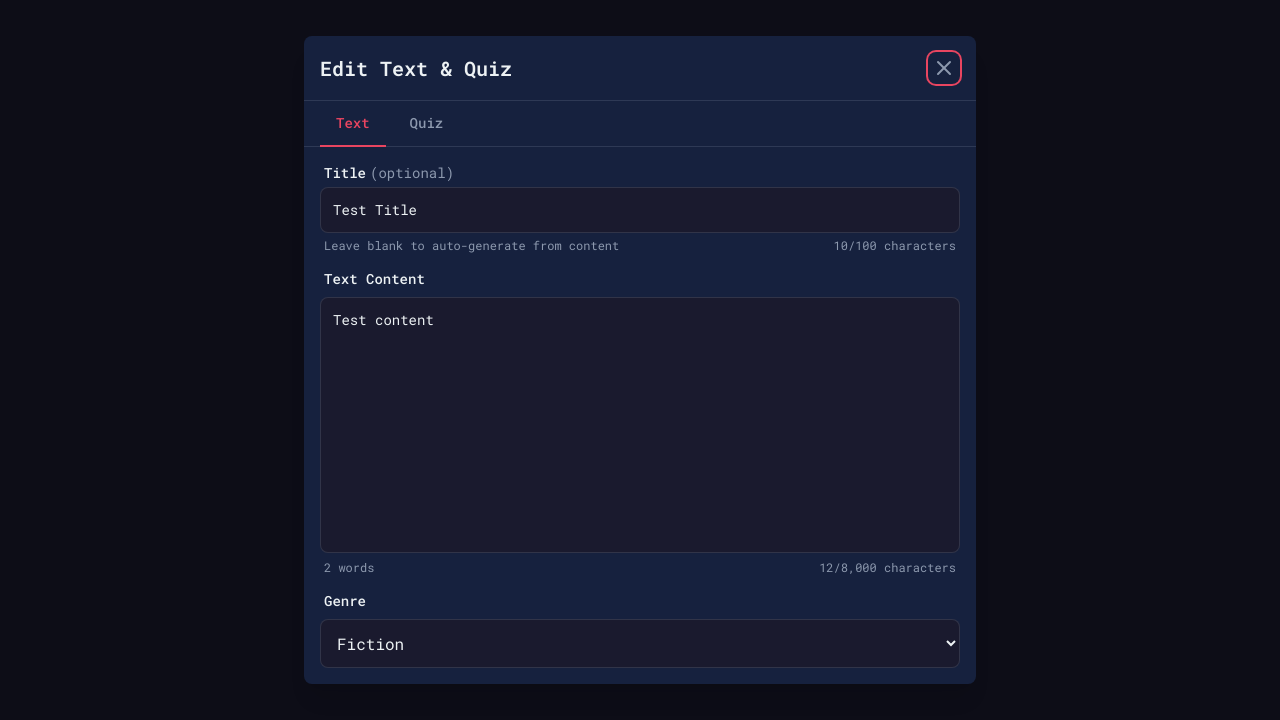
Test case: EditTextModal tabs › switches to Quiz tab when clicked
The width and height of the screenshot is (1280, 720).
Click the tab with test id "edit-modal-quiz-tab": (426, 124) [394, 101, 459, 147]
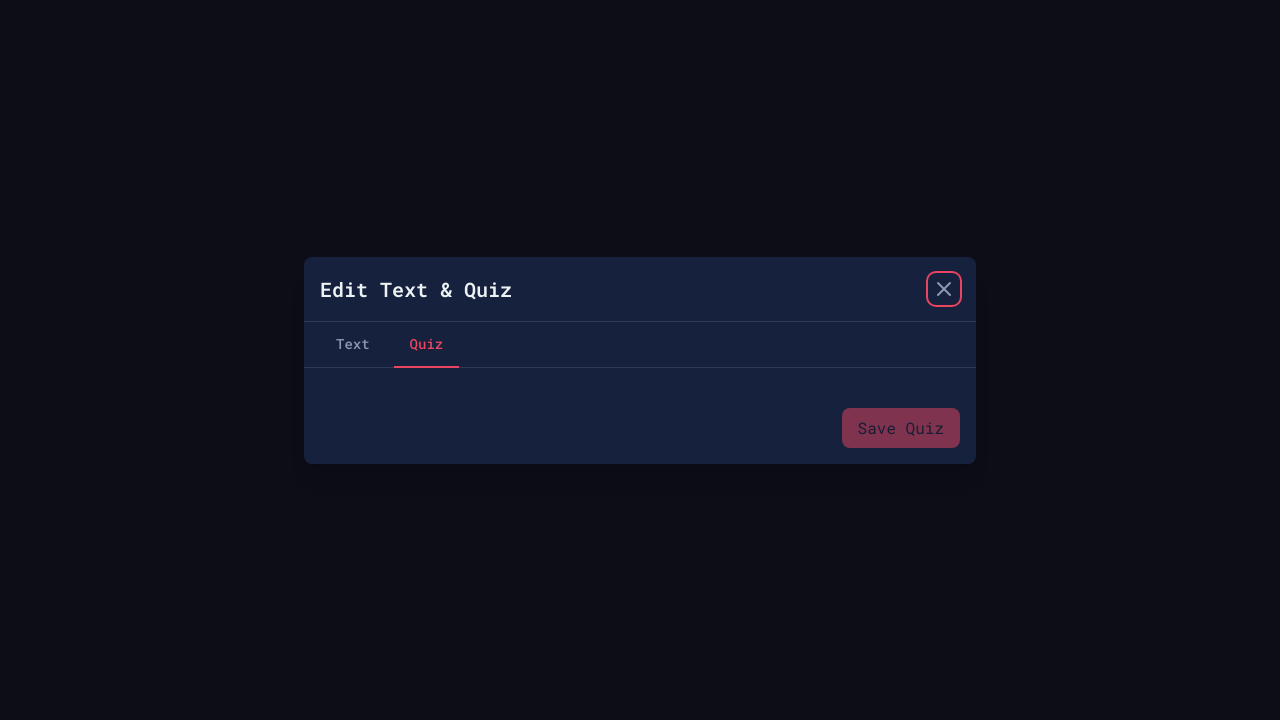
Expected: the button "Save Quiz" is shown, [842, 408, 960, 448]
